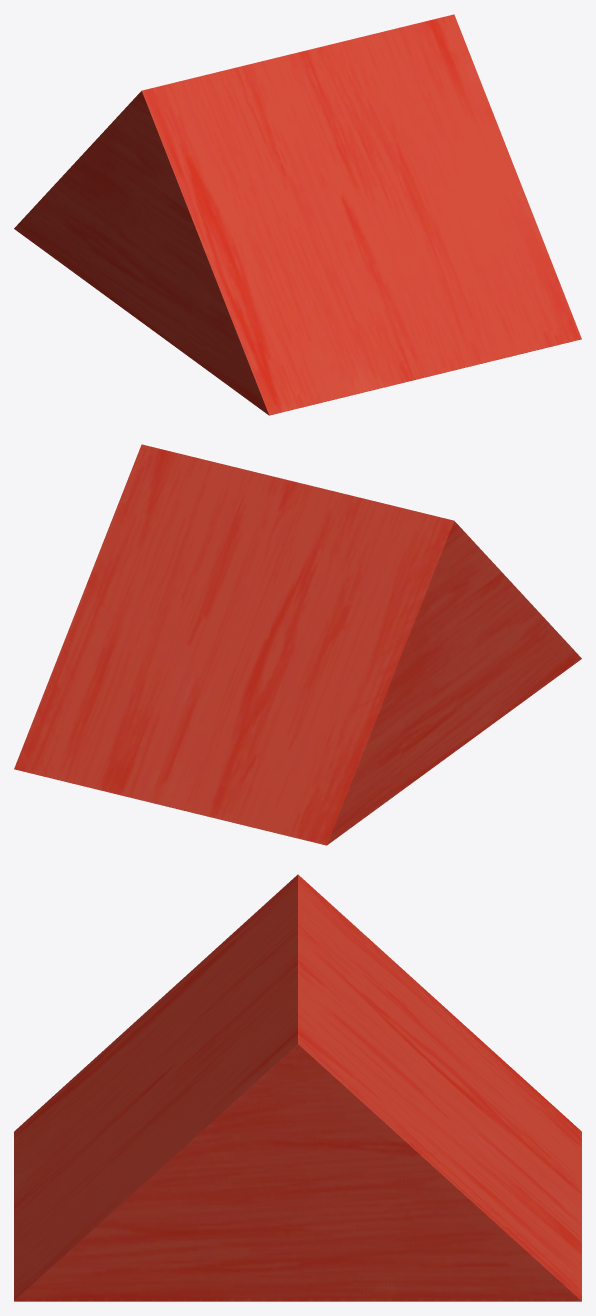
File: TriangleBlock_Red.fbx
The picture shows the model from 3 angles, top to bottom: view 1: azimuth 30°, elevation 25°; view 2: azimuth 150°, elevation 25°; view 3: azimuth 270°, elevation 25°; orthographic projection. The views are drawn at different scales.
Visible parts, largest first — view 1: Cube.013; view 2: Cube.013; view 3: Cube.013.
Boxes of the visible parts, left/top/right/bottom form: Cube.013: left=14, top=14, right=581, bottom=415; Cube.013: left=14, top=444, right=581, bottom=845; Cube.013: left=14, top=874, right=581, bottom=1301.
Bounding box in the file's own units: 100 × 70.8 × 141.
